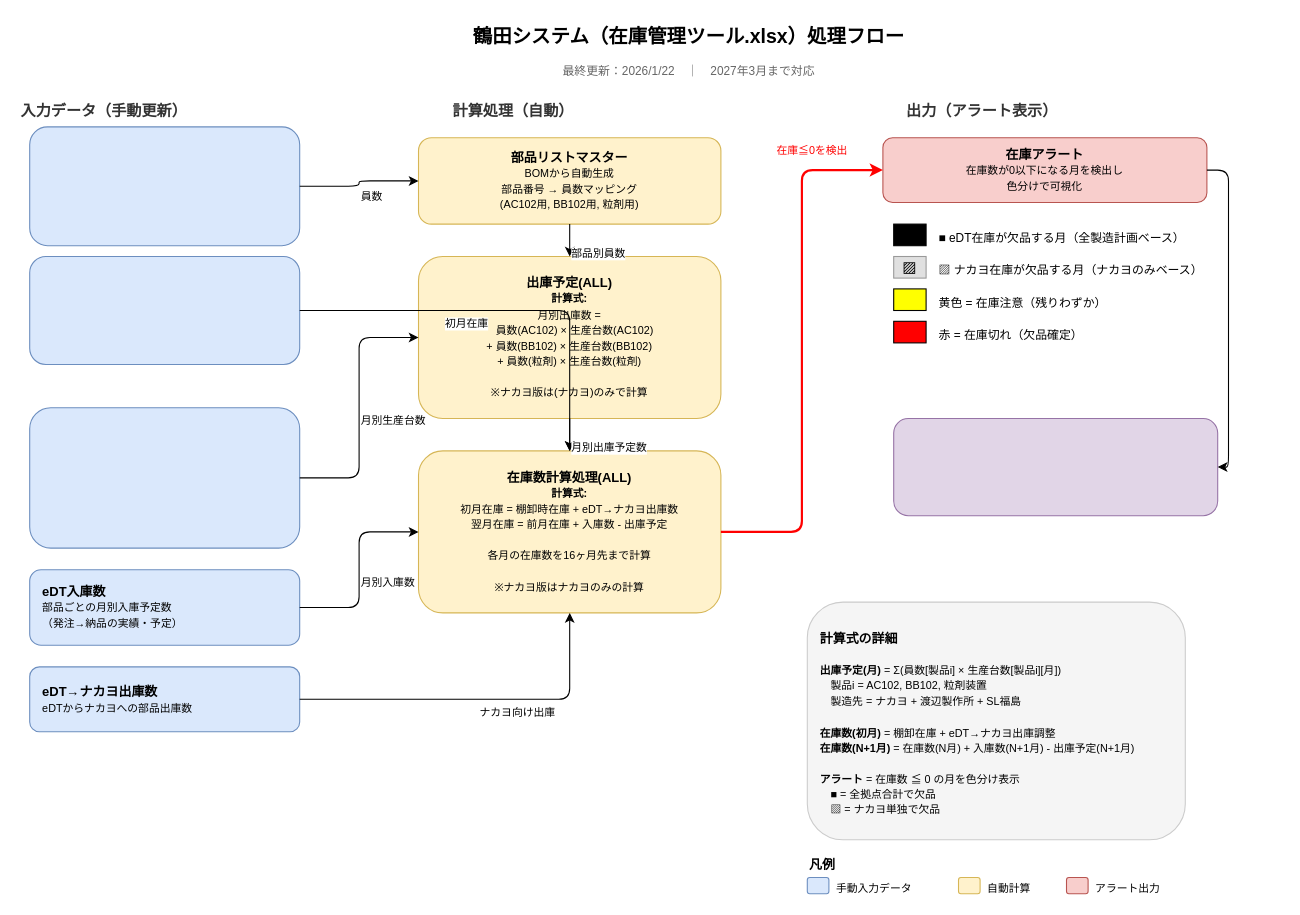
The diagram is 1300 pixels wide and 915 high, and some of its shapes have lost their labels. The shapes that lost their labels are listed below. From the top down, each one's centre as x and y in pixels, then its label:
At point 164,186: "BOM（部品表） AC102: A25-BOM-7 BB102: B25-BOM-01 粒剤装置: P13-AC102-BOM-3 製品1台あたりの 部品員数".
At point 164,309: "棚卸表 eDT: 棚卸表_eDT_260114 ナカヨ: 棚卸表_ナカヨ_251226 部品ごとの 実在庫数 （時点スナップショット）".
At point 164,477: "生産計画 製造委託先ごとの月別生産台数 ・ナカヨ ・渡辺製作所 ・スカイリンク福島 例: AC102 ナカヨ 1月=50台".
At point 1055,466: "発注タイミング判断 アラート色を見て 「いつまでに何を発注すべきか」を判断 → 鶴田さんが手動で発注処理".
